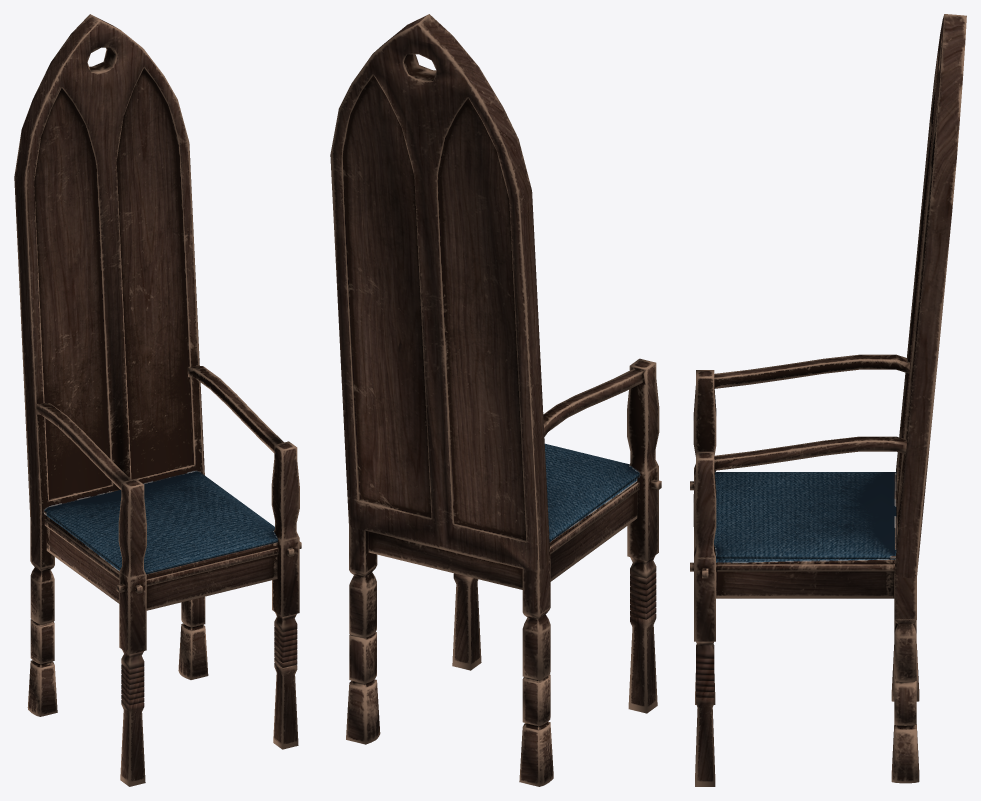
Rendered from medieval_chair.glb.
The picture shows the model from 3 angles, left to right: view 1: azimuth 30°, elevation 25°; view 2: azimuth 150°, elevation 25°; view 3: azimuth 270°, elevation 25°; orthographic projection. The views are drawn at different scales.
Parts seen in each view (by area): view 1: Chair_low; view 2: Chair_low; view 3: Chair_low.
Boxes of the visible parts, left/top/right/bottom form: Chair_low: left=14, top=14, right=301, bottom=786; Chair_low: left=330, top=14, right=661, bottom=786; Chair_low: left=690, top=14, right=966, bottom=786.
Size of the model in its own units: 2.14 by 7.44 by 2.56.
1 material, 1 textured.
